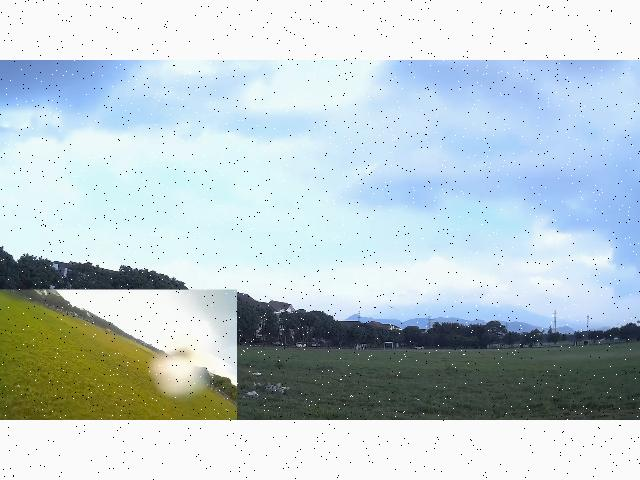Anti-Drone: (384, 300, 402, 314)
